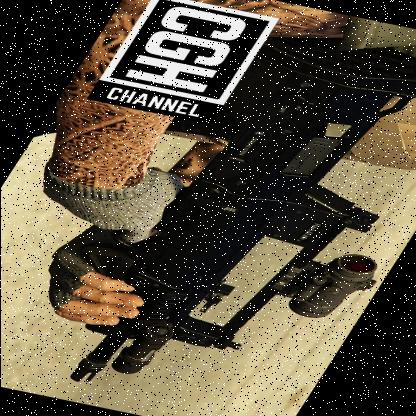rifle: (47, 31, 416, 416)
